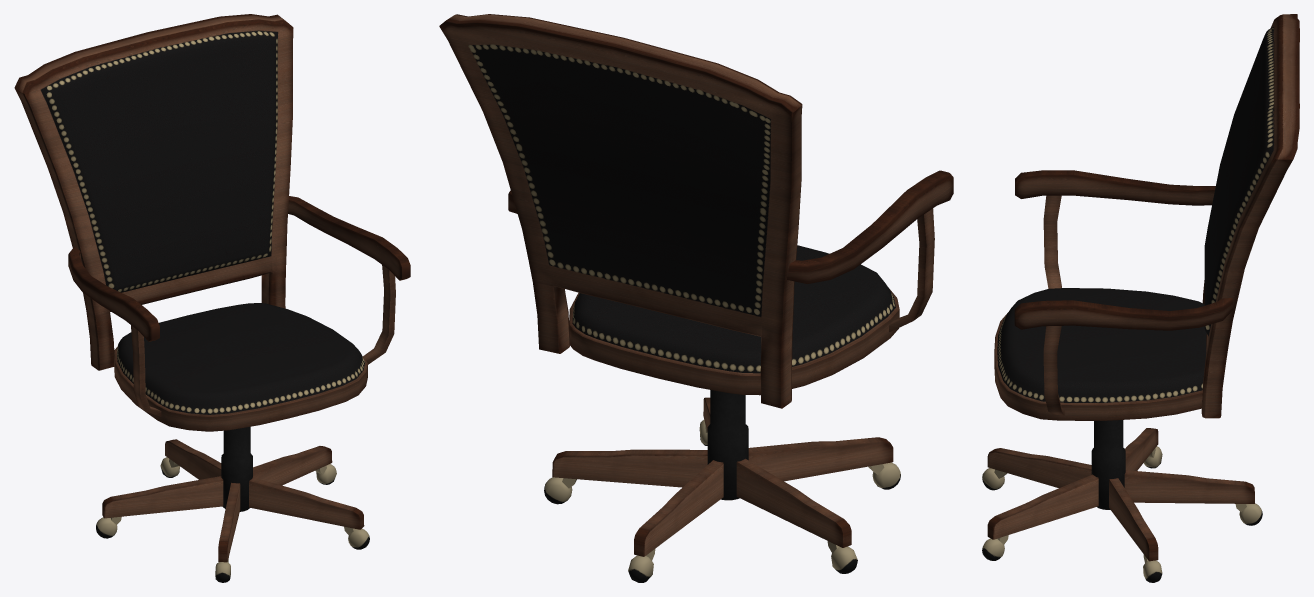
Rendered from ChairRetro01.FBX.
3 renders of one model, left to right at view 1: azimuth 30°, elevation 25°; view 2: azimuth 150°, elevation 25°; view 3: azimuth 270°, elevation 25°, orthographic. The views are drawn at different scales.
Parts seen in each view (by area): view 1: ChairRetro01; view 2: ChairRetro01; view 3: ChairRetro01.
Part boxes in pixels (x1,y1,x2,y2): ChairRetro01: [14, 14, 410, 582]; ChairRetro01: [439, 14, 953, 582]; ChairRetro01: [982, 14, 1299, 582].
Bounding box in the file's own units: 0.8176 × 1.23 × 0.7748.
